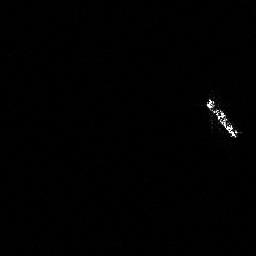ship: (204, 94, 243, 142)
